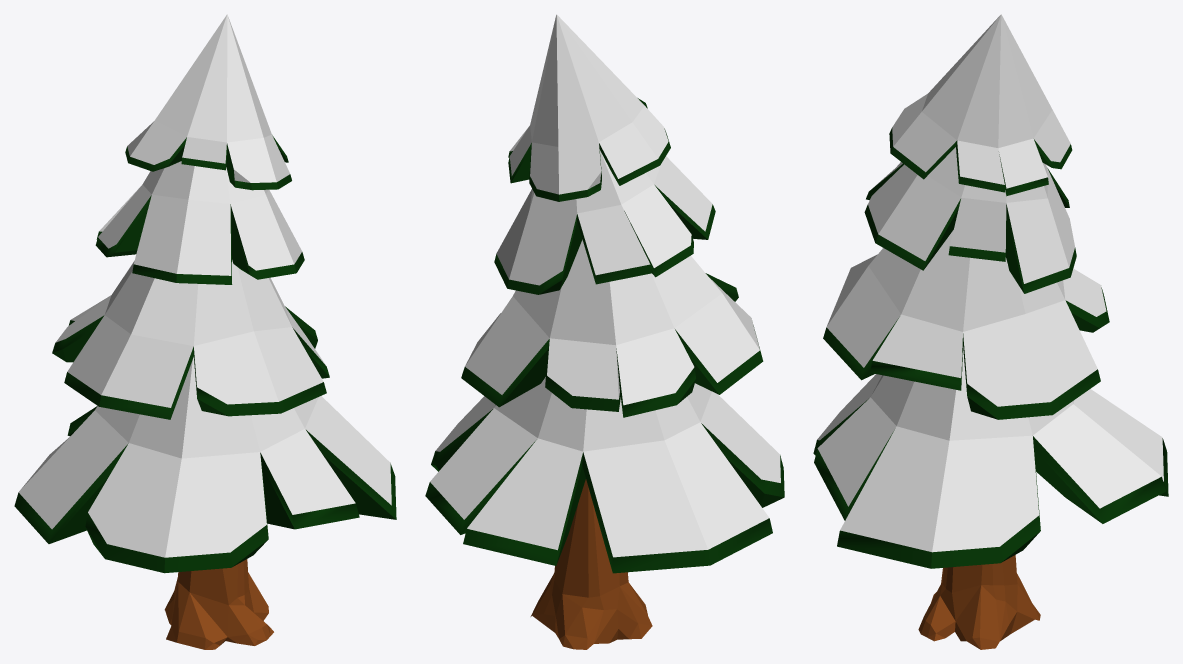
File: tree2_snowy.fbx
The picture shows the model from 3 angles, left to right: view 1: azimuth 30°, elevation 25°; view 2: azimuth 150°, elevation 25°; view 3: azimuth 270°, elevation 25°; orthographic projection. The views are drawn at different scales.
Visible parts, largest first — view 1: pCone9; view 2: pCone9; view 3: pCone9.
Part boxes in pixels (x1,y1,x2,y2): pCone9: [14, 14, 396, 649]; pCone9: [425, 14, 784, 649]; pCone9: [813, 14, 1168, 649].
Bounding box in the file's own units: 517 × 901 × 467.
